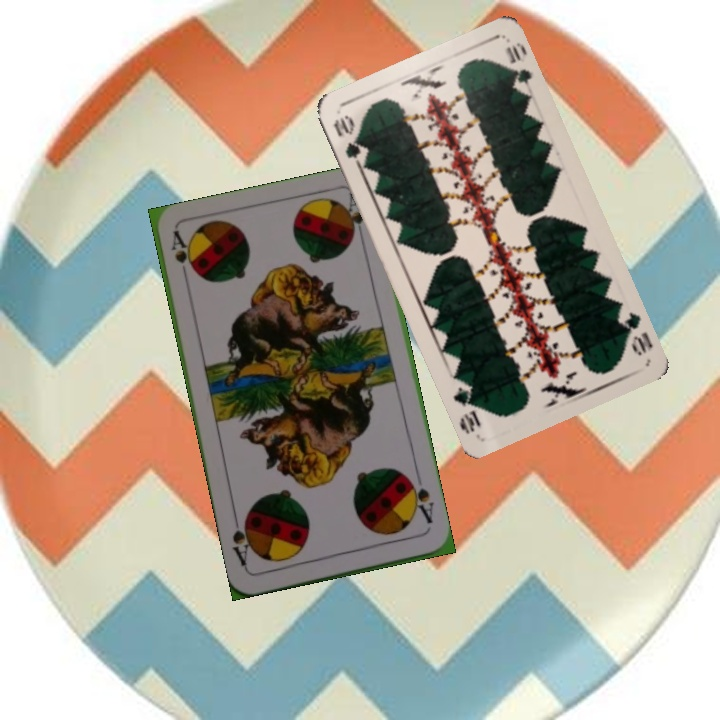G10: (613, 306, 656, 359), (329, 110, 364, 169)
SA: (166, 228, 196, 287), (404, 475, 437, 526)
